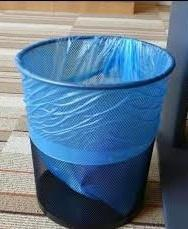Bote de Basura: (14, 39, 168, 228)
